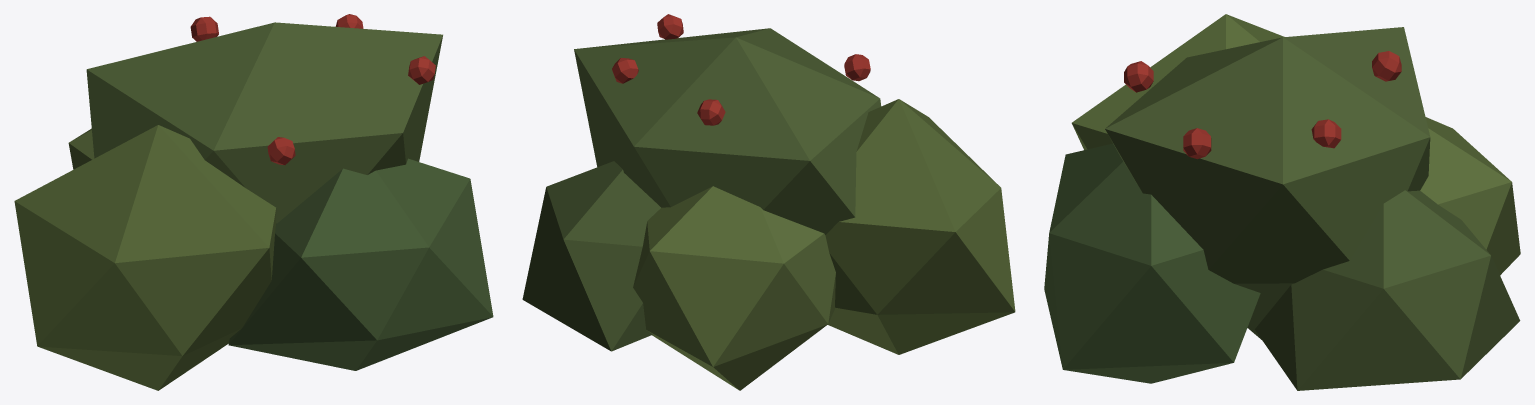
The model's file is arbusto_2.glb.
3 renders of one model, left to right at view 1: azimuth 30°, elevation 25°; view 2: azimuth 150°, elevation 25°; view 3: azimuth 270°, elevation 25°, orthographic. The views are drawn at different scales.
Visible parts, largest first — view 1: arbusto_2.001; view 2: arbusto_2.001; view 3: arbusto_2.001.
Part boxes in pixels (bbox=[...]): arbusto_2.001: bbox=[14, 14, 493, 390]; arbusto_2.001: bbox=[522, 14, 1015, 390]; arbusto_2.001: bbox=[1044, 14, 1520, 390].
Bounding box in the file's own units: 1.38 × 0.9824 × 1.21.
